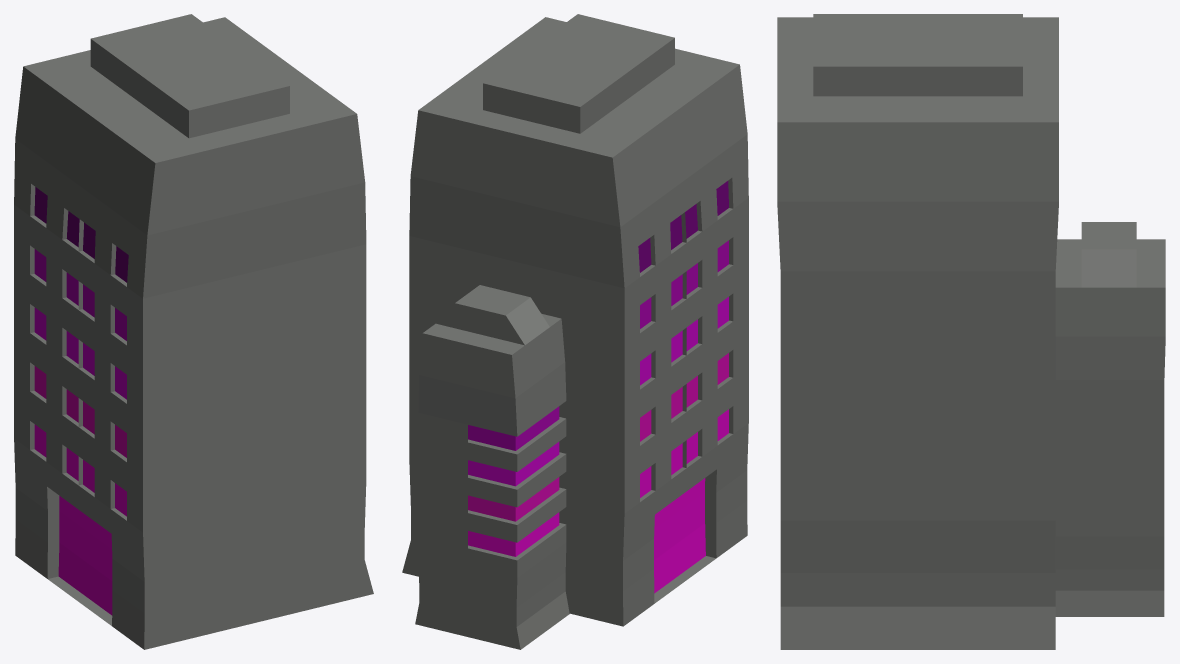
Rendered from PrediosMat.fbx.
3 views of the same model, side by side, from view 1: azimuth 30°, elevation 25°; view 2: azimuth 150°, elevation 25°; view 3: azimuth 270°, elevation 25° (orthographic). The views are drawn at different scales.
Visible parts, largest first — view 1: Cube; view 2: Cube; view 3: Cube.
Boxes of the visible parts, <box> form: Cube: <box>14,14,373,649</box>; Cube: <box>402,14,748,649</box>; Cube: <box>777,14,1165,649</box>.
Bounding box in the file's own units: 207 × 441 × 282.
